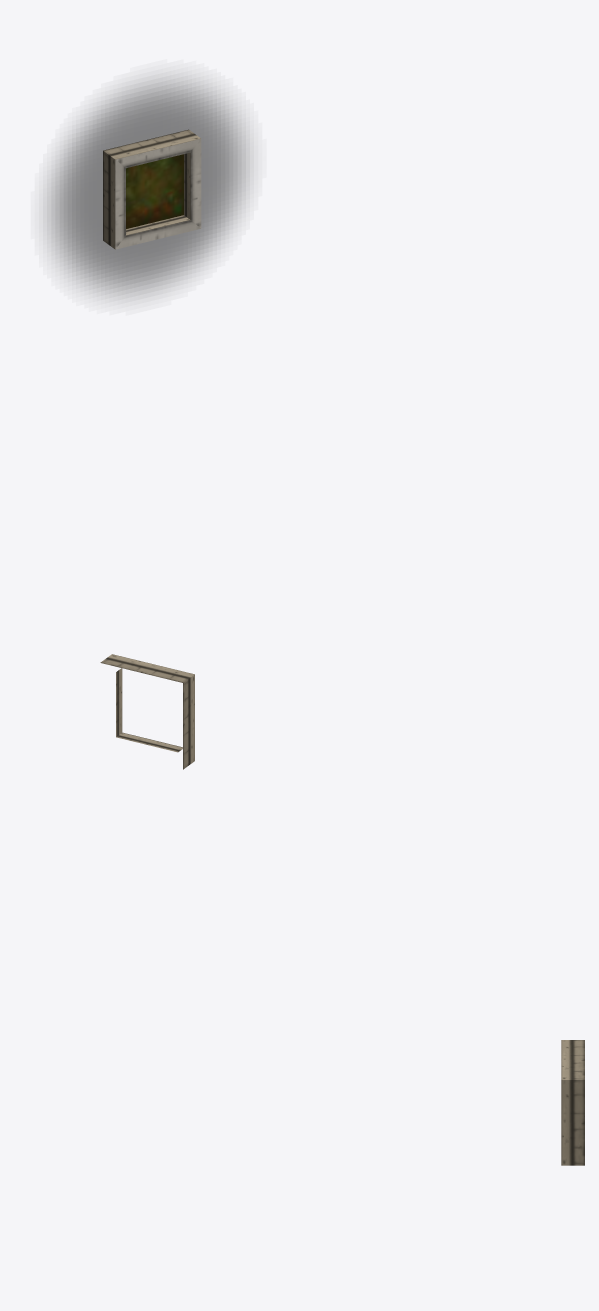
Rendered from prop_tree_small_brickbox_ul.glb.
The picture shows the model from 3 angles, top to bottom: view 1: azimuth 30°, elevation 25°; view 2: azimuth 150°, elevation 25°; view 3: azimuth 270°, elevation 25°; orthographic projection. The views are drawn at different scales.
Parts seen in each view (by area): view 1: shadow_small_brickbox_ul, box_drit_2; view 2: box_drit_2; view 3: box_drit_2.
Boxes of the visible parts, <box> form: shadow_small_brickbox_ul: <box>47,77,249,298</box>; box_drit_2: <box>103,129,201,249</box>; box_drit_2: <box>100,654,194,769</box>; box_drit_2: <box>561,1040,584,1165</box>.
Bounding box in the file's own units: 13.93 × 12.32 × 24.15.
Materials: 4 (4 with a texture image).
